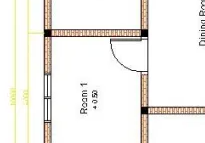door: (108, 36, 154, 74)
window: (38, 71, 59, 126)
